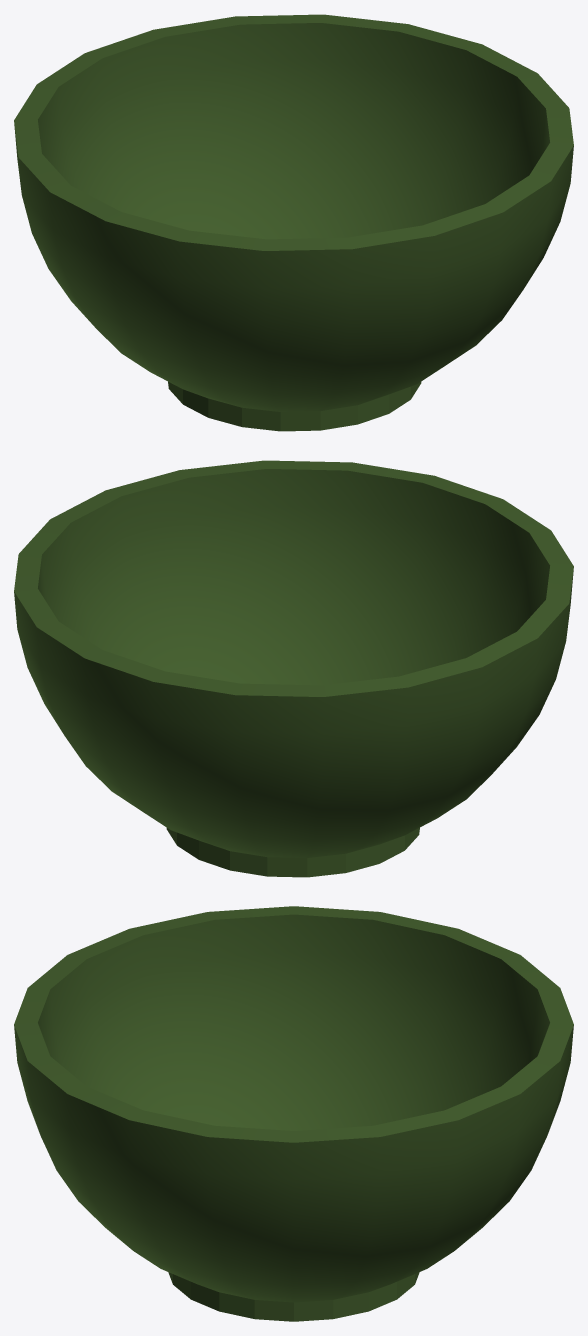
File: bowl.fbx
3 renders of one model, top to bottom at view 1: azimuth 30°, elevation 25°; view 2: azimuth 150°, elevation 25°; view 3: azimuth 270°, elevation 25°, orthographic.
Parts seen in each view (by area): view 1: bowl; view 2: bowl; view 3: bowl.
Boxes of the visible parts, x1,y1,x2,y2 form: bowl: [14, 14, 573, 431]; bowl: [14, 460, 573, 877]; bowl: [14, 906, 573, 1321].
Bounding box in the file's own units: 7.13 × 3.44 × 7.13.
